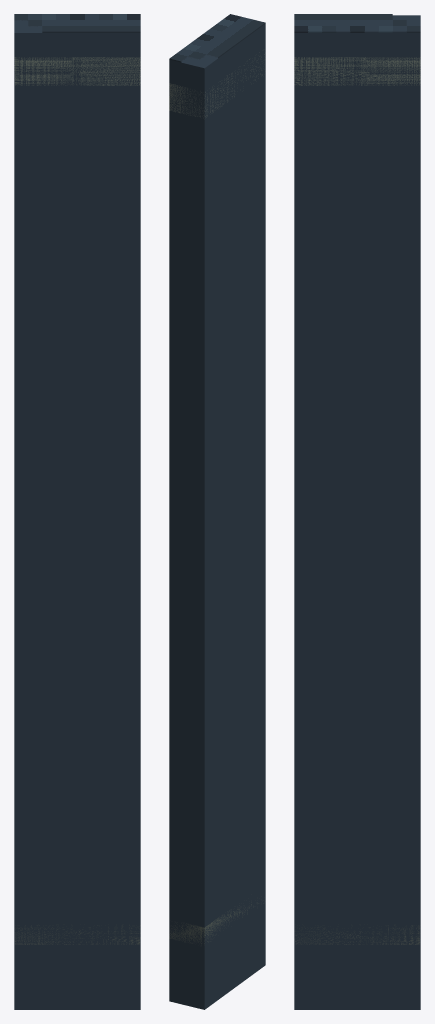
Rendered from CMU3DInteriorVehicleBoxVanLeft3.glb.
3 renders of one model, left to right at view 1: azimuth 90°, elevation 25°; view 2: azimuth 150°, elevation 25°; view 3: azimuth 270°, elevation 25°, orthographic. The views are drawn at different scales.
Visible parts, largest first — view 1: cabin bulkhead, upper armor trim, cabin bulkhead source finish, lower armor trim; view 2: cabin bulkhead, cabin bulkhead source finish, upper armor trim, lower armor trim; view 3: cabin bulkhead, upper armor trim, cabin bulkhead source finish, lower armor trim.
Part boxes in pixels (x1,y1,x2,y2): cabin bulkhead: (14,20,140,1009); upper armor trim: (14,57,140,85); cabin bulkhead source finish: (14,14,140,32); lower armor trim: (15,925,140,944); cabin bulkhead: (169,24,265,1009); cabin bulkhead source finish: (169,14,265,62); upper armor trim: (169,52,264,118); lower armor trim: (169,900,263,945); cabin bulkhead: (294,15,420,1009); upper armor trim: (294,57,420,85); cabin bulkhead source finish: (294,14,420,32); lower armor trim: (294,925,419,944).
Bounding box in the file's own units: 0.0938 × 2.4 × 0.2812.
Materials: 4 (1 with a texture image).
